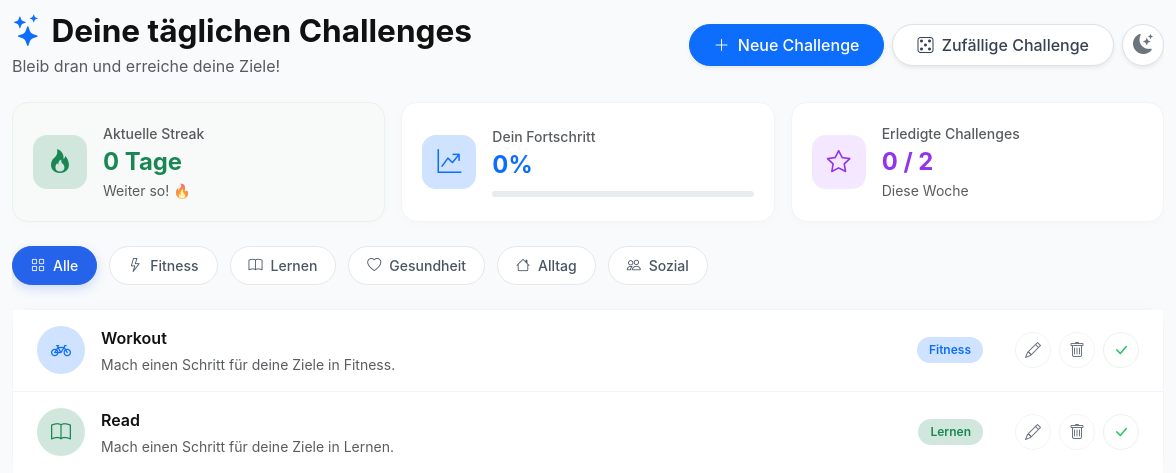
Scenario: ChallengeList › loads filtered challenges from the backend when a category is selected
Click the button "Fitness" at (163, 265), box [109,246,218,285]
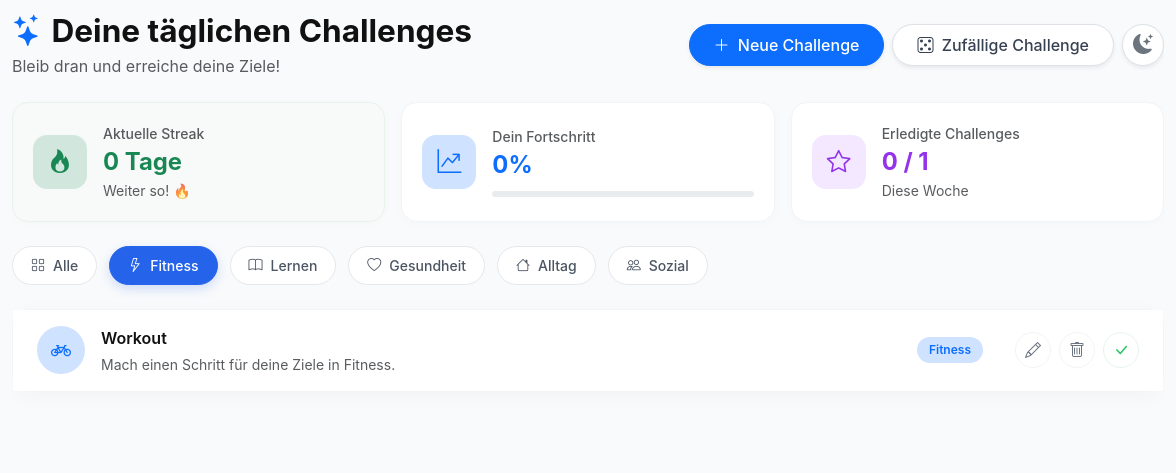
Expected: the text "Workout" is shown, [101,328,167,348]
Result: the text "Read" is gone
